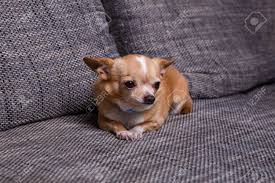chihuahua: (78, 44, 220, 153)
